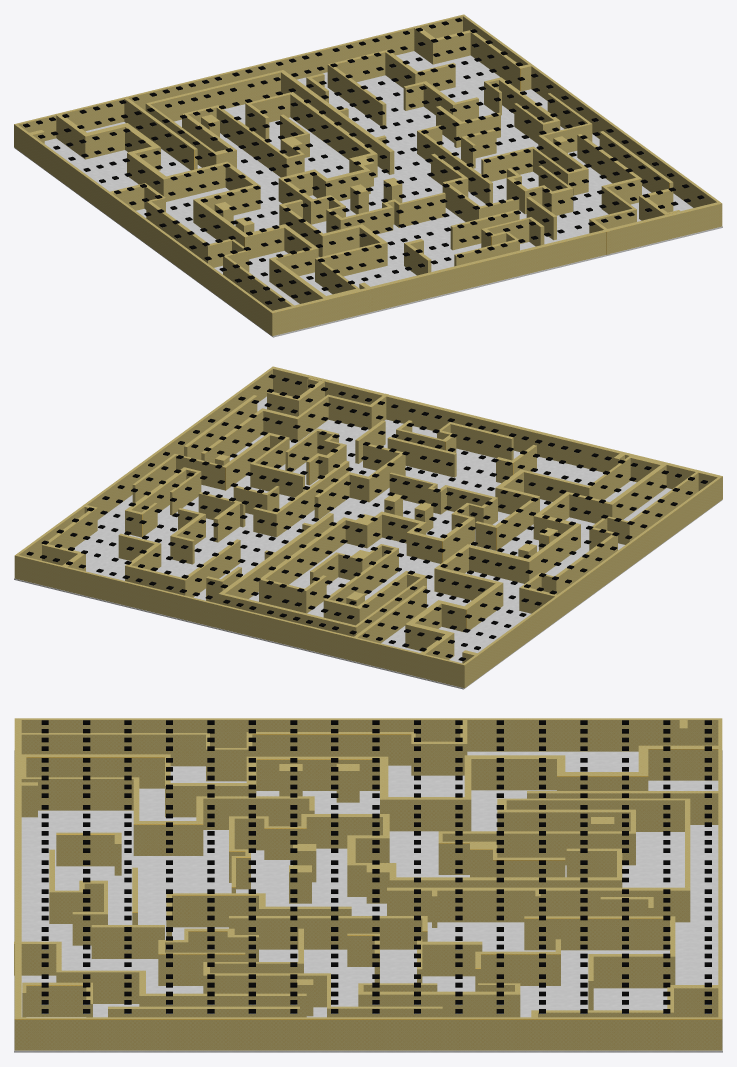
File: maps1.obj
3 views of the same model, one above another, from view 1: azimuth 30°, elevation 25°; view 2: azimuth 150°, elevation 25°; view 3: azimuth 270°, elevation 25° (orthographic). The views are drawn at different scales.
Visible parts, largest first — view 1: Floor1, Wall76, Wall37, Wall48, Wall730, Wall886, Wall832, Wall321, Wall930, Wall75, Wall853, Wall781 (+43 smaller); view 2: Floor1, Wall49, Wall37, Wall77, Wall730, Wall832, Wall75, Wall233, Wall261, Wall884, Wall853, Wall618 (+50 smaller); view 3: Floor1, Wall732, Wall39, Wall854, Wall280, Wall14, Wall287, Wall301, Wall931, Wall665, Wall714, Wall917 (+63 smaller).
Part boxes in pixels (x1=…): Floor1: x1=14, y1=51, x2=722, y2=337; Wall76: x1=272, y1=204, x2=722, y2=335; Wall37: x1=14, y1=124, x2=272, y2=335; Wall48: x1=18, y1=16, x2=462, y2=140; Wall730: x1=463, y1=16, x2=716, y2=207; Wall886: x1=151, y1=72, x2=280, y2=121; Wall832: x1=290, y1=94, x2=370, y2=159; Wall321: x1=124, y1=99, x2=193, y2=170; Wall930: x1=216, y1=108, x2=286, y2=177; Wall75: x1=271, y1=202, x2=721, y2=312; Wall853: x1=281, y1=72, x2=389, y2=174; Wall781: x1=164, y1=165, x2=225, y2=201; Floor1: x1=14, y1=396, x2=722, y2=689; Wall49: x1=14, y1=555, x2=464, y2=687; Wall37: x1=464, y1=476, x2=722, y2=687; Wall77: x1=273, y1=369, x2=717, y2=490; Wall730: x1=19, y1=369, x2=272, y2=560; Wall832: x1=266, y1=520, x2=345, y2=584; Wall75: x1=271, y1=366, x2=719, y2=477; Wall233: x1=387, y1=438, x2=454, y2=477; Wall261: x1=450, y1=424, x2=511, y2=460; Wall884: x1=219, y1=594, x2=356, y2=636; Wall853: x1=225, y1=514, x2=333, y2=598; Wall618: x1=469, y1=547, x2=524, y2=583; Floor1: x1=14, y1=750, x2=722, y2=1052; Wall732: x1=15, y1=1019, x2=721, y2=1050; Wall39: x1=21, y1=720, x2=718, y2=751; Wall854: x1=387, y1=890, x2=690, y2=922; Wall280: x1=229, y1=918, x2=422, y2=949; Wall14: x1=524, y1=919, x2=669, y2=950; Wall287: x1=21, y1=734, x2=205, y2=766; Wall301: x1=252, y1=734, x2=411, y2=765; Wall931: x1=442, y1=833, x2=635, y2=865; Wall665: x1=26, y1=757, x2=164, y2=788; Wall714: x1=21, y1=779, x2=133, y2=810; Wall917: x1=506, y1=800, x2=684, y2=831.
Size of the model in its own units: 258 by 13.91 by 257.
Materials: 5 (3 with a texture image).
